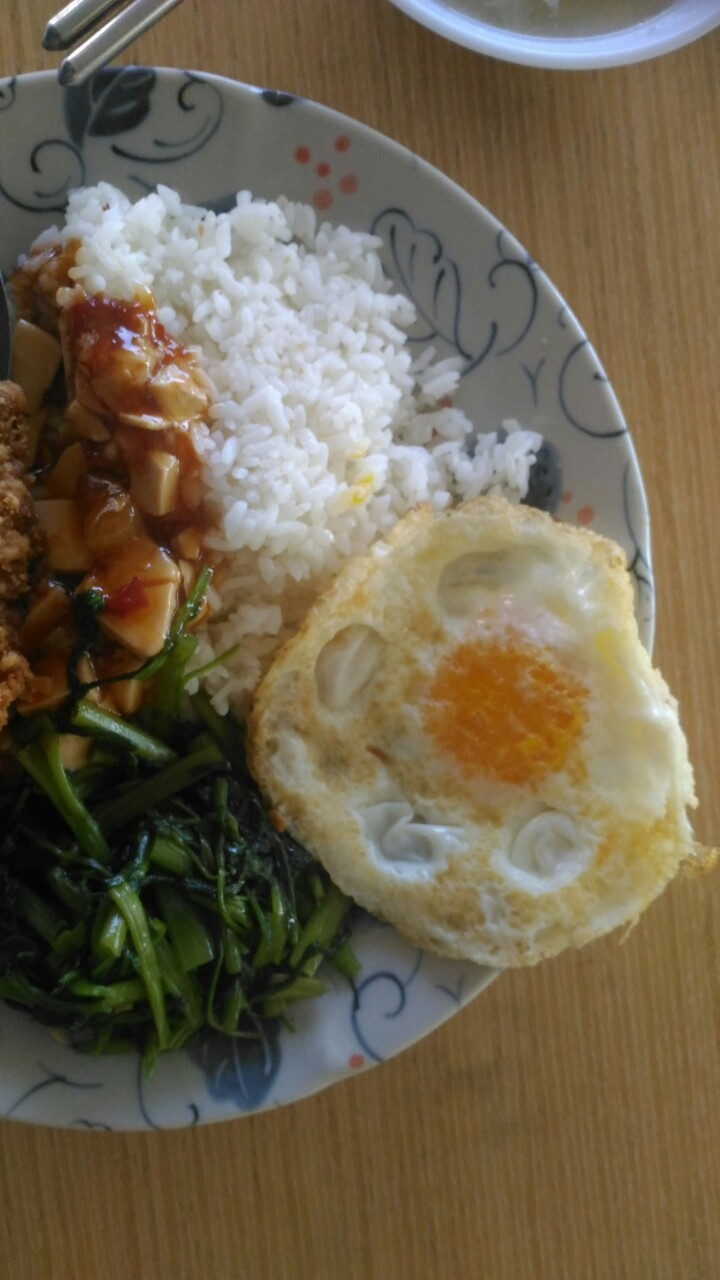fried_eggs: (248, 505, 695, 991)
rice: (81, 174, 462, 505)
water_spinach: (1, 690, 315, 1095)
